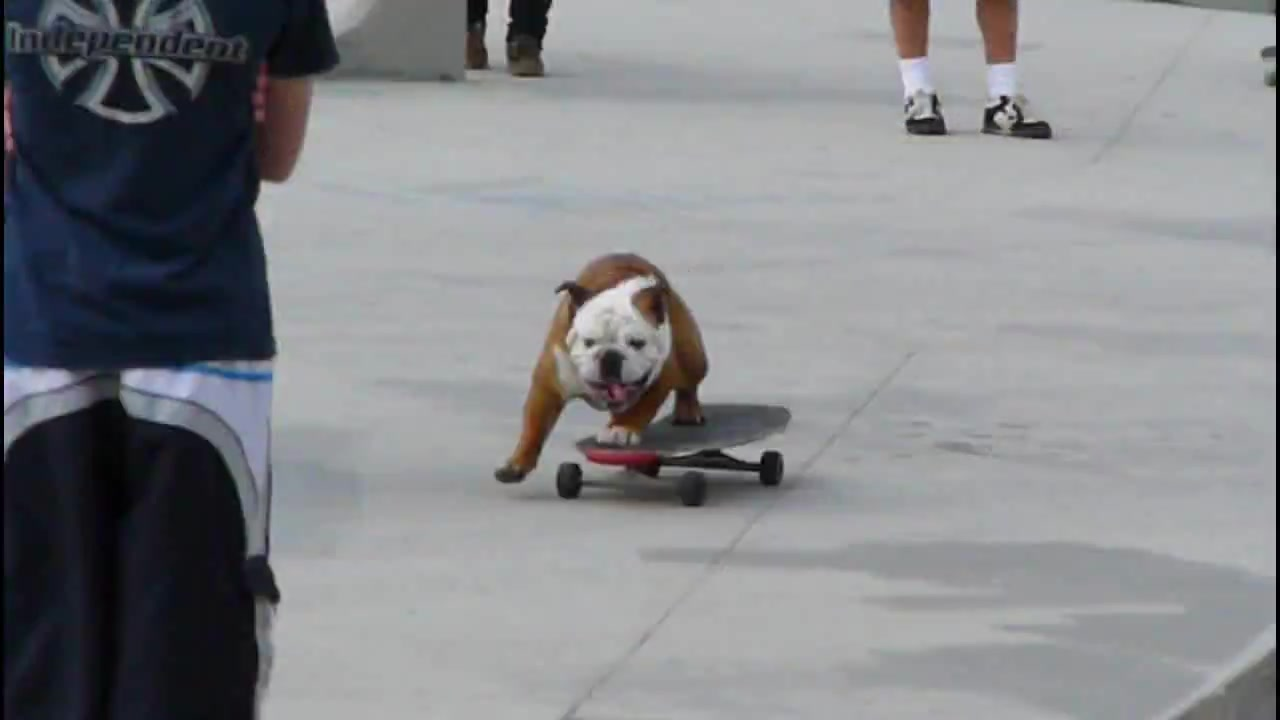dog: (496, 248, 710, 485)
